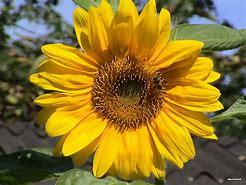sunflowers: (26, 1, 226, 166)
